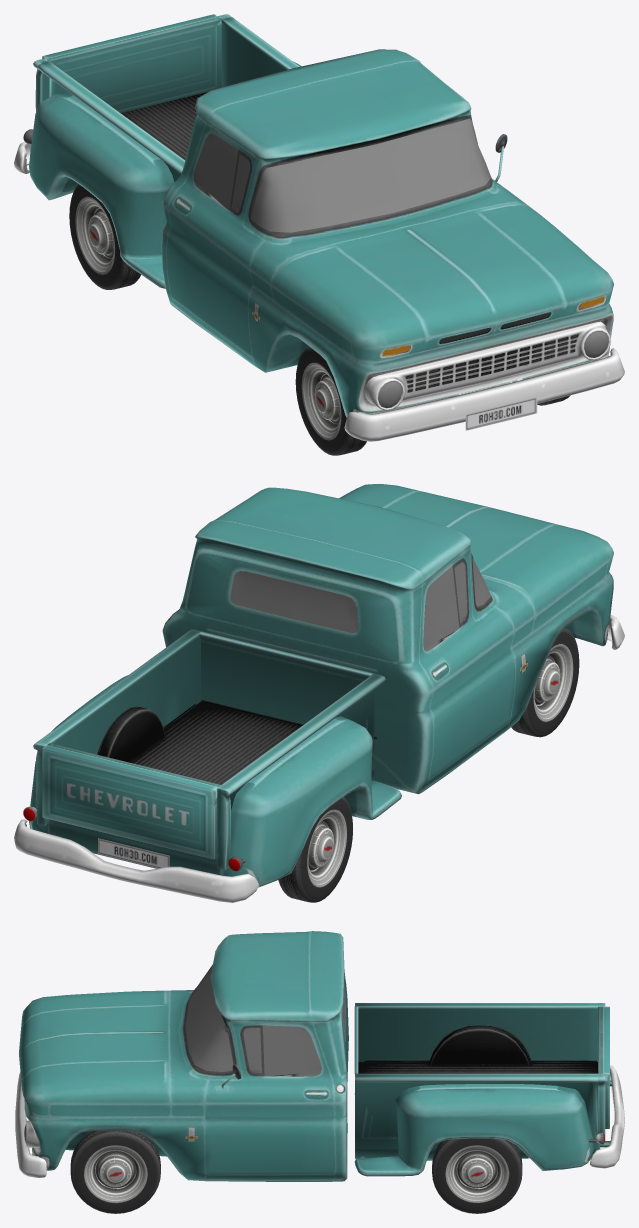
The model's file is sk-c10pickup.glb.
3 renders of one model, top to bottom at view 1: azimuth 30°, elevation 25°; view 2: azimuth 150°, elevation 25°; view 3: azimuth 270°, elevation 25°, orthographic. The views are drawn at different scales.
Parts seen in each view (by area): view 1: Object_4, Object_2, Object_3; view 2: Object_4, Object_3, Object_2; view 3: Object_4, Object_3, Object_2.
Part boxes in pixels (x1,y1,x2,y2): Object_4: [14, 14, 624, 441]; Object_2: [193, 118, 608, 408]; Object_3: [69, 184, 570, 455]; Object_4: [14, 484, 624, 902]; Object_3: [278, 628, 579, 902]; Object_2: [23, 556, 491, 870]; Object_4: [15, 931, 624, 1181]; Object_3: [70, 1130, 522, 1213]; Object_2: [24, 964, 604, 1143].
Size of the model in its own units: 209 by 178 by 486.
Materials: 3 (3 with a texture image).
